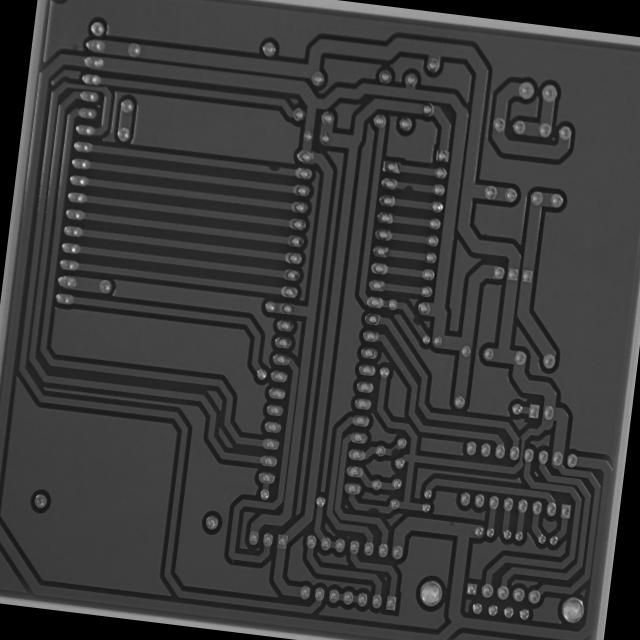mouse_bite: (264, 160, 284, 176), (364, 501, 381, 516), (408, 311, 422, 329), (400, 181, 417, 195), (387, 444, 400, 458)
